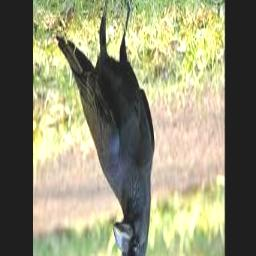Crow: (56, 0, 154, 256)
